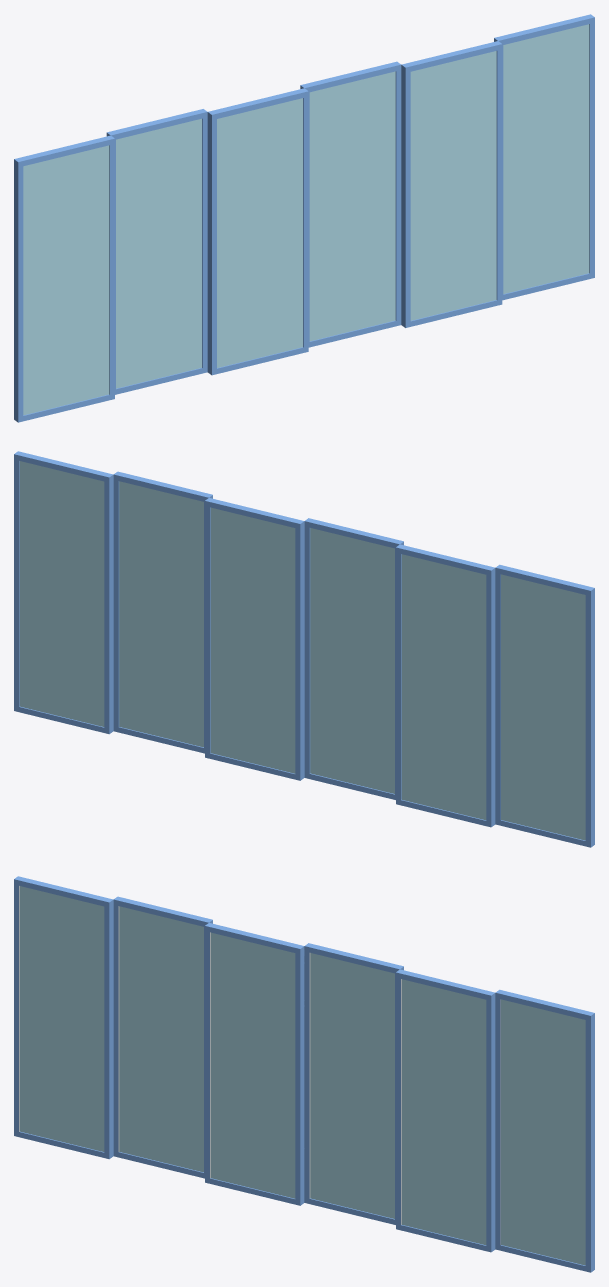
The picture shows the model from 3 angles, top to bottom: view 1: azimuth 30°, elevation 25°; view 2: azimuth 150°, elevation 25°; view 3: azimuth 330°, elevation 25°; orthographic projection.
Visible parts, largest first — view 1: door_004, door_002, door_006, door_003, door_005, door_007; view 2: door_007, door_006, door_005, door_003, door_002, door_004; view 3: door_007, door_006, door_002, door_004, door_005, door_003.
Boxes of the visible parts, x1,y1,x2,y2 form: door_004: [207, 88, 308, 375]; door_002: [401, 41, 502, 327]; door_006: [14, 135, 114, 422]; door_003: [300, 61, 401, 347]; door_005: [106, 109, 207, 394]; door_007: [494, 14, 594, 300]; door_007: [14, 451, 113, 734]; door_006: [495, 564, 594, 847]; door_005: [396, 544, 495, 827]; door_003: [205, 498, 304, 780]; door_002: [113, 471, 212, 753]; door_004: [304, 518, 403, 799]; door_007: [495, 989, 594, 1272]; door_006: [14, 876, 113, 1159]; door_002: [396, 969, 495, 1252]; door_004: [205, 923, 304, 1205]; door_005: [113, 896, 212, 1178]; door_003: [304, 943, 403, 1224].
Size of the model in its own units: 221 by 94.88 by 5.51.
